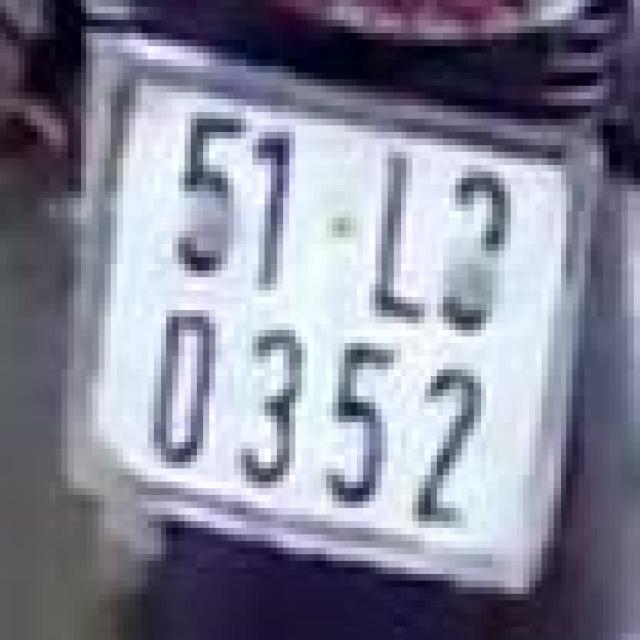0: (154, 307, 215, 478)
1: (252, 115, 302, 307)
2: (412, 360, 486, 531)
3: (443, 155, 517, 346), (240, 310, 314, 488)
5: (172, 102, 246, 274), (326, 333, 382, 518)
L: (360, 132, 428, 330)
